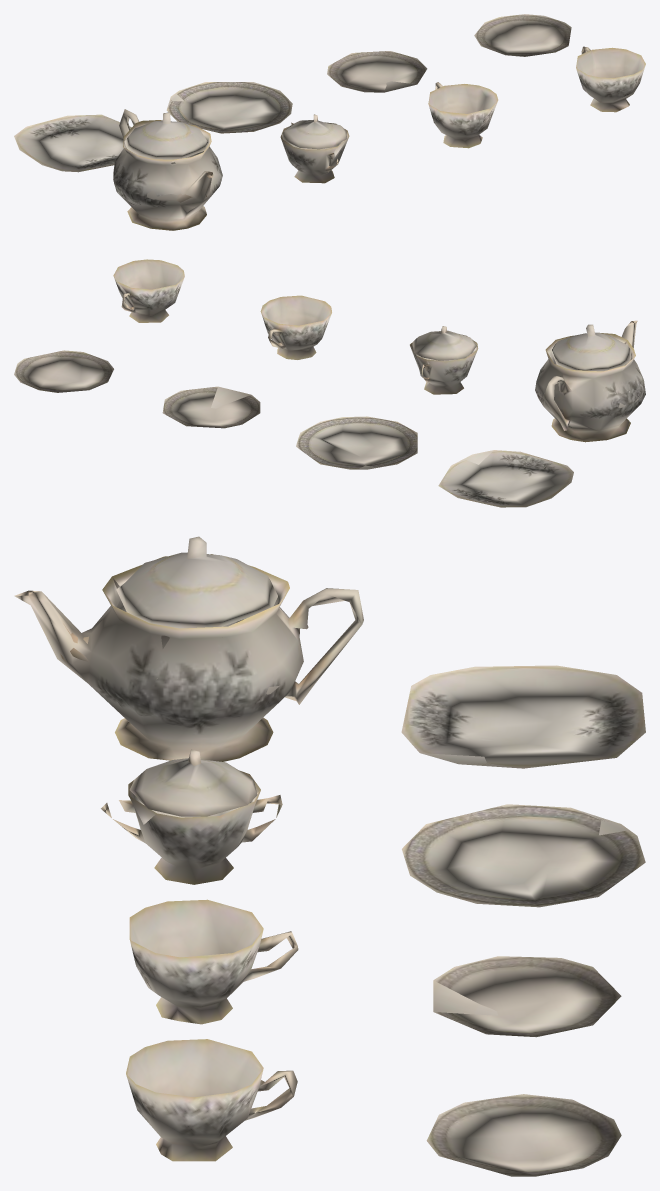
Rendered from tea_set_01.glb.
3 views of the same model, one above another, from view 1: azimuth 30°, elevation 25°; view 2: azimuth 150°, elevation 25°; view 3: azimuth 270°, elevation 25° (orthographic). The views are drawn at different scales.
Visible parts, largest first — view 1: tea_set_01_plate_large_square_01; view 2: tea_set_01_plate_large_square_01; view 3: tea_set_01_plate_large_square_01.
Part boxes in pixels (box(x1,y1,x2,y2)): tea_set_01_plate_large_square_01: box(14, 14, 645, 230); tea_set_01_plate_large_square_01: box(14, 259, 645, 507); tea_set_01_plate_large_square_01: box(14, 536, 645, 1176).
Bounding box in the file's own units: 0.9152 × 0.1633 × 0.4794.
Materials: 1 (1 with a texture image).
